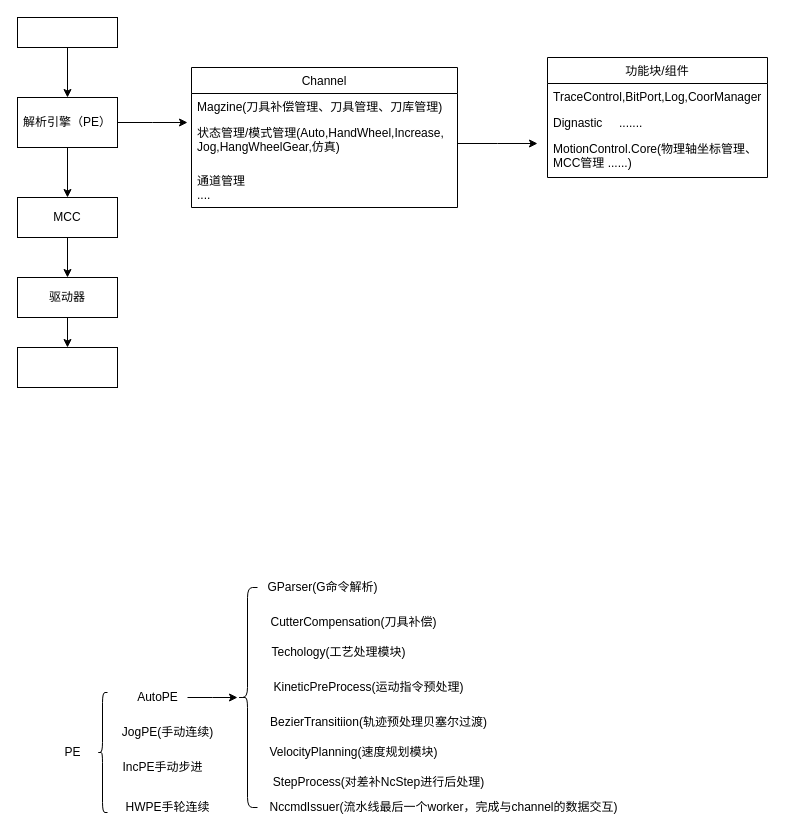
The diagram is 785 pixels wide and 835 high, and some of its shapes have lost their labels. Here are the shapes that lost their labels. From the top down, the centre of each, then its label:
At [67,32]: "UI（NcStudio）".
At [67,367]: "硬件".
